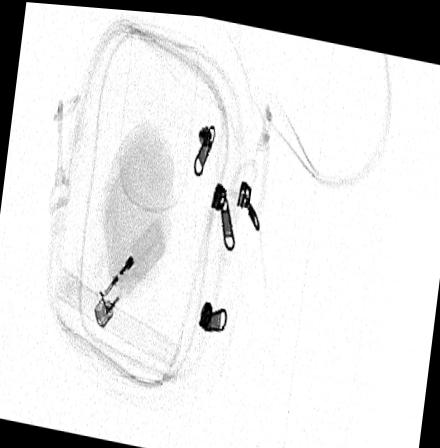Lighter: (92, 210, 164, 328)
